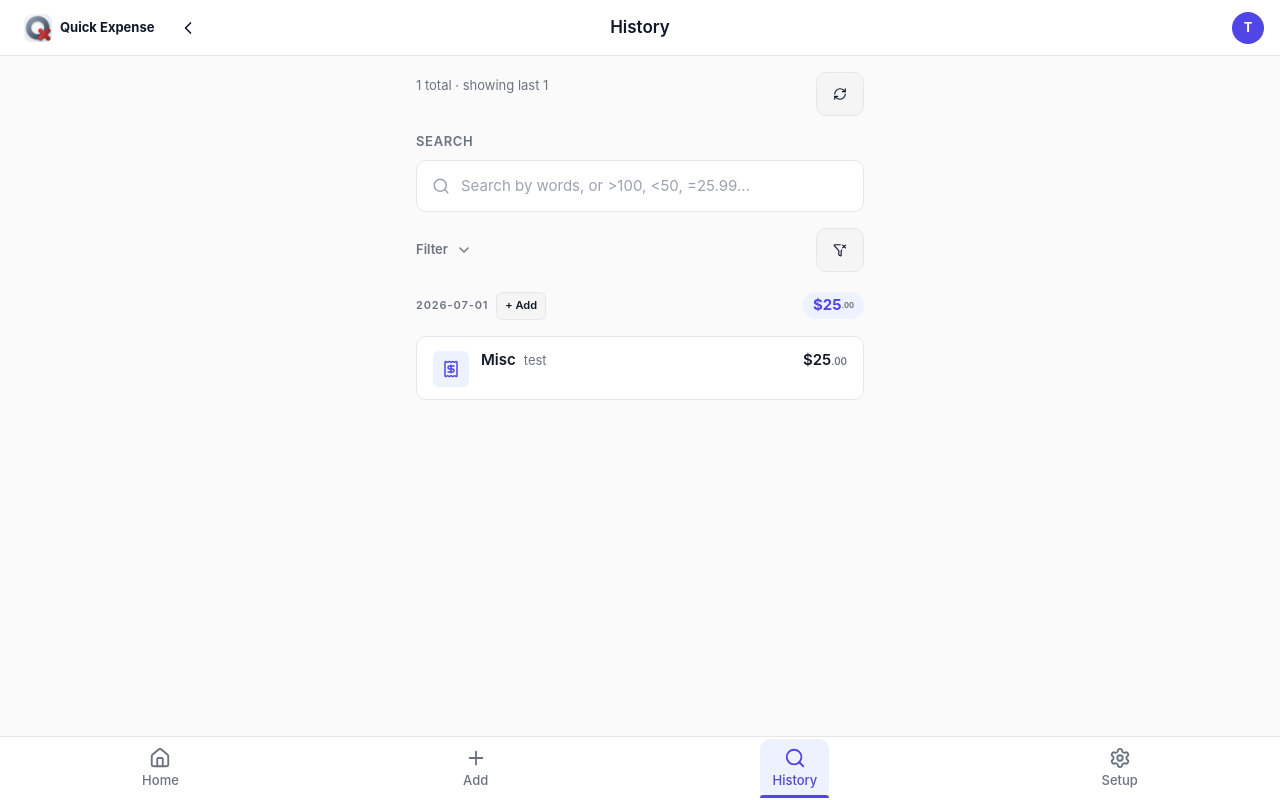
Test: HistoryPage — Repeat button › shows Repeat button in expanded card for edit-access users
Click the element with class "expense-card--interactive". click: point(640, 368)
box: [416,336,864,400]
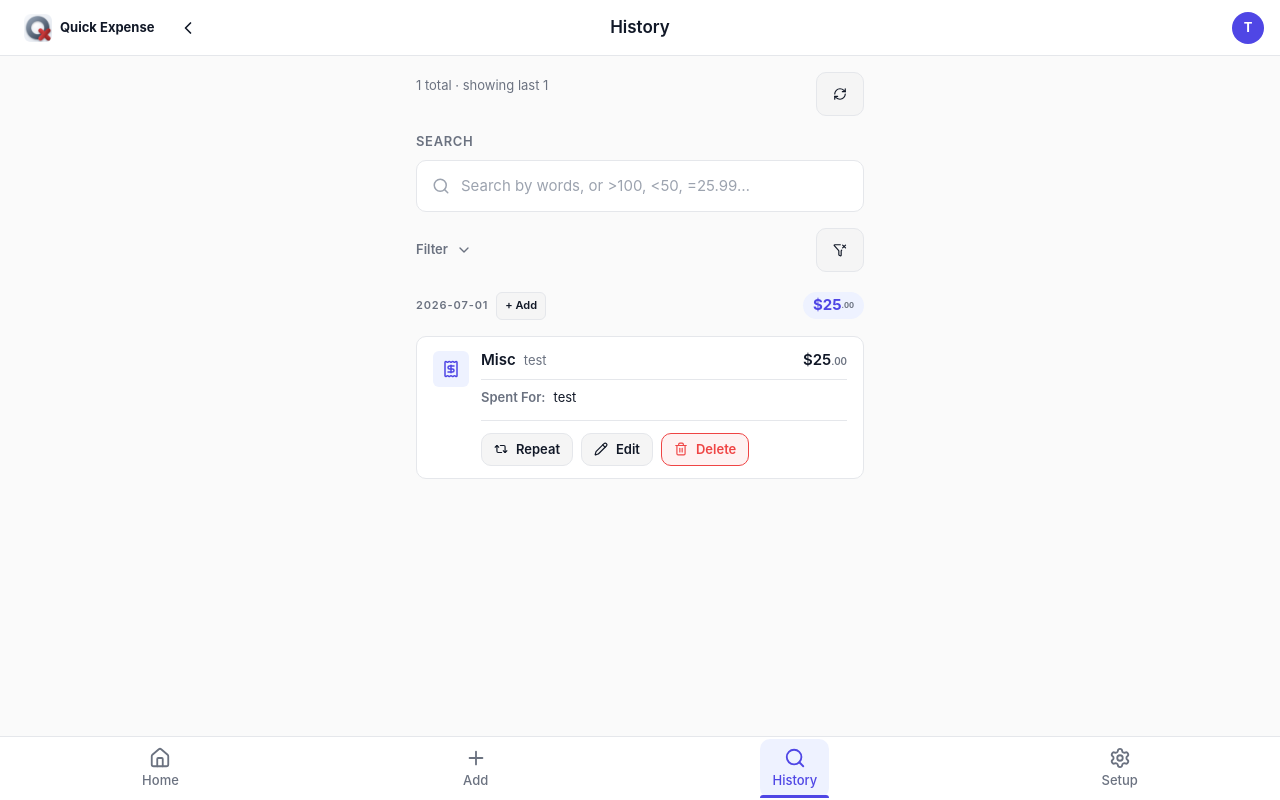
expect the button with aria-label "repeat this expense" is shown: met, box [481,432,573,466]
